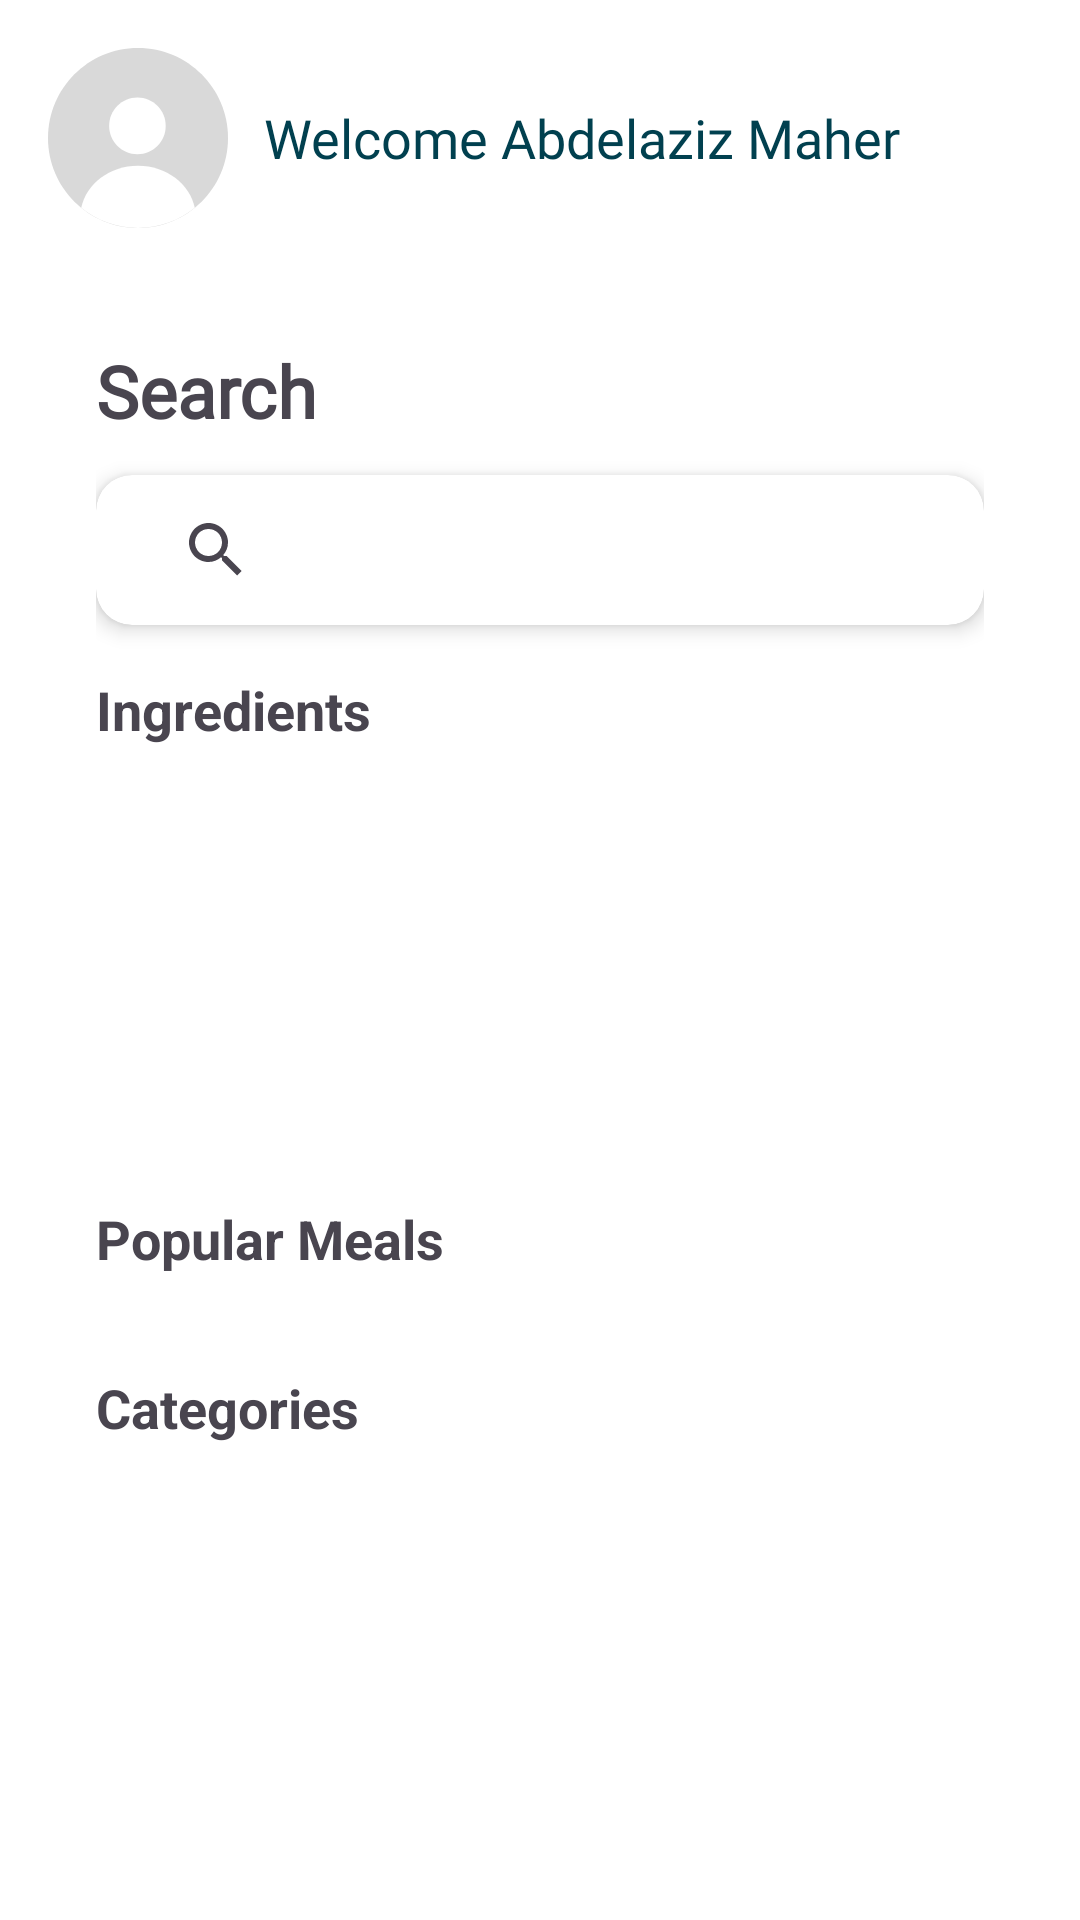

Point at icon controls on the screen. Image size 1080w x 1920h, points as [x,y].
profile: [138,127]
